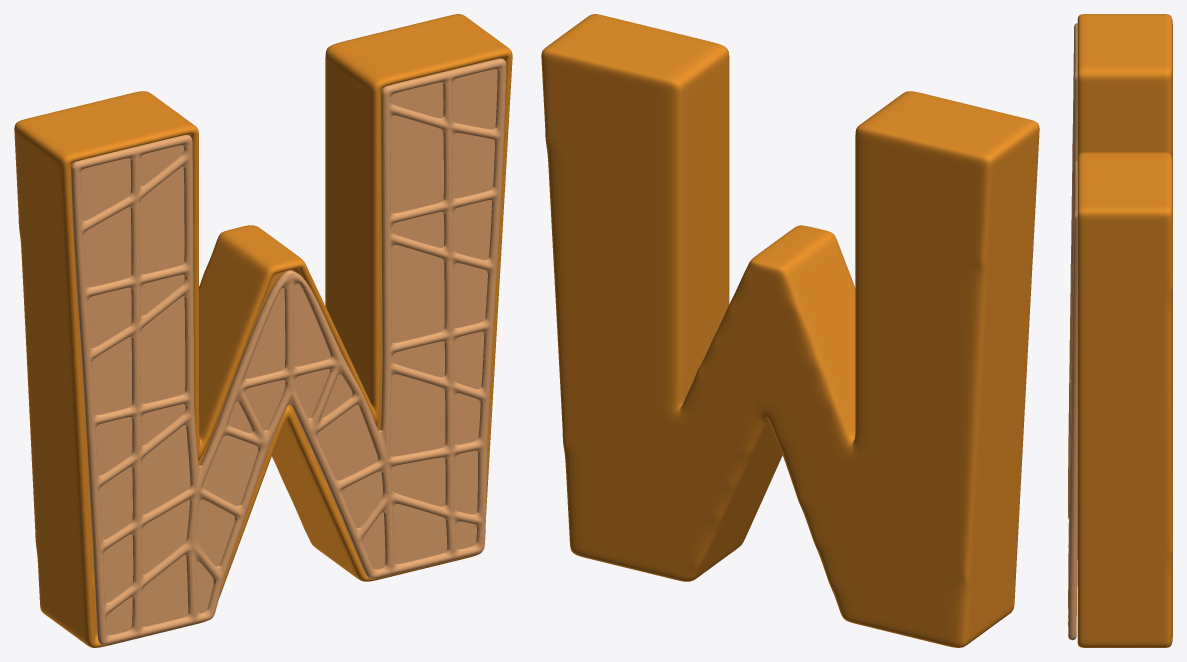
3 renders of one model, left to right at view 1: azimuth 30°, elevation 25°; view 2: azimuth 150°, elevation 25°; view 3: azimuth 270°, elevation 25°, orthographic. The views are drawn at different scales.
Parts seen in each view (by area): view 1: Plane.051, Text.028, Plane.094; view 2: Text.028; view 3: Text.028, Plane.094.
Part boxes in pixels (x1=…): Plane.051: x1=80, y1=69, x2=497, y2=635; Text.028: x1=14, y1=14, x2=512, y2=647; Plane.094: x1=71, y1=58, x2=506, y2=645; Text.028: x1=541, y1=14, x2=1039, y2=647; Text.028: x1=1077, y1=14, x2=1172, y2=647; Plane.094: x1=1068, y1=23, x2=1077, y2=640.
Bounding box in the file's own units: 3.06 × 3.25 × 0.6814.
